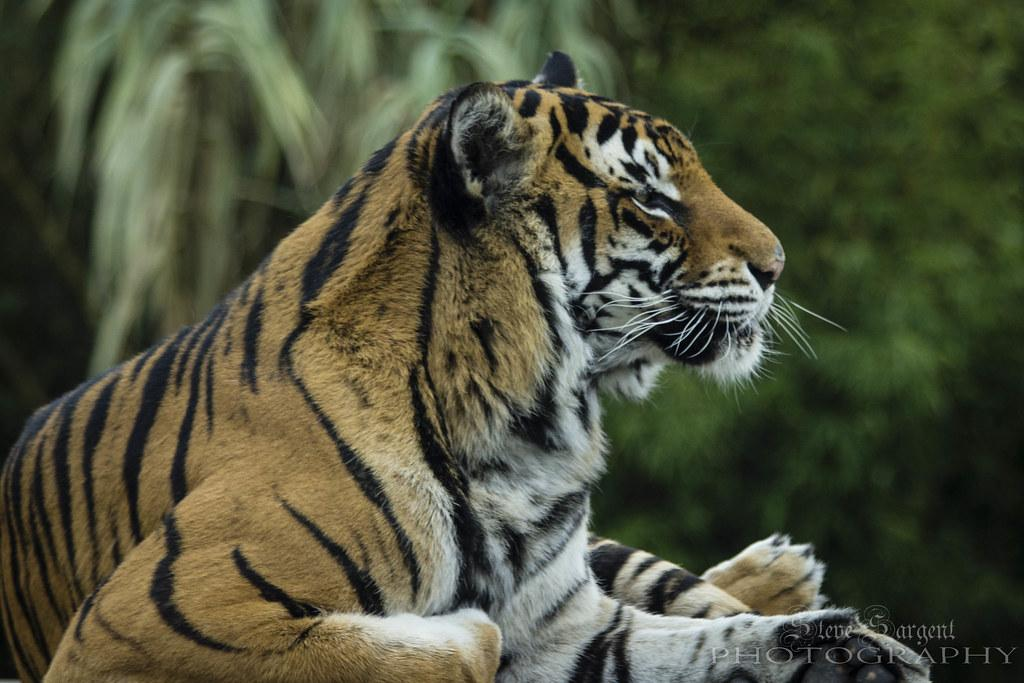tiger: (2, 49, 933, 682)
